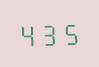five: (59, 19, 78, 45)
four: (18, 21, 37, 47)
three: (39, 20, 58, 46)
